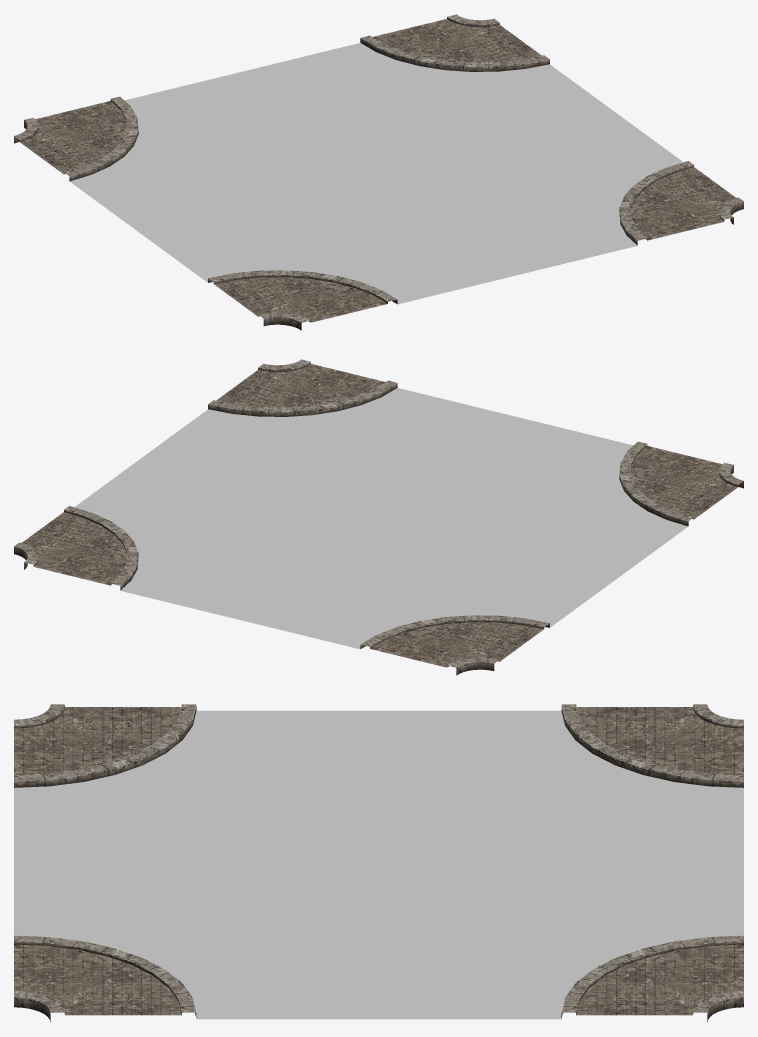
Rendered from Road9C.fbx.
3 views of the same model, one above another, from view 1: azimuth 30°, elevation 25°; view 2: azimuth 150°, elevation 25°; view 3: azimuth 270°, elevation 25° (orthographic). The views are drawn at different scales.
Parts seen in each view (by area): view 1: polySurface78; view 2: polySurface78; view 3: polySurface78.
Part boxes in pixels (x1=…): polySurface78: x1=14, y1=14, x2=743, y2=330; polySurface78: x1=14, y1=359, x2=743, y2=675; polySurface78: x1=14, y1=704, x2=743, y2=1022.
Bounding box in the file's own units: 10 × 0.1527 × 10.
